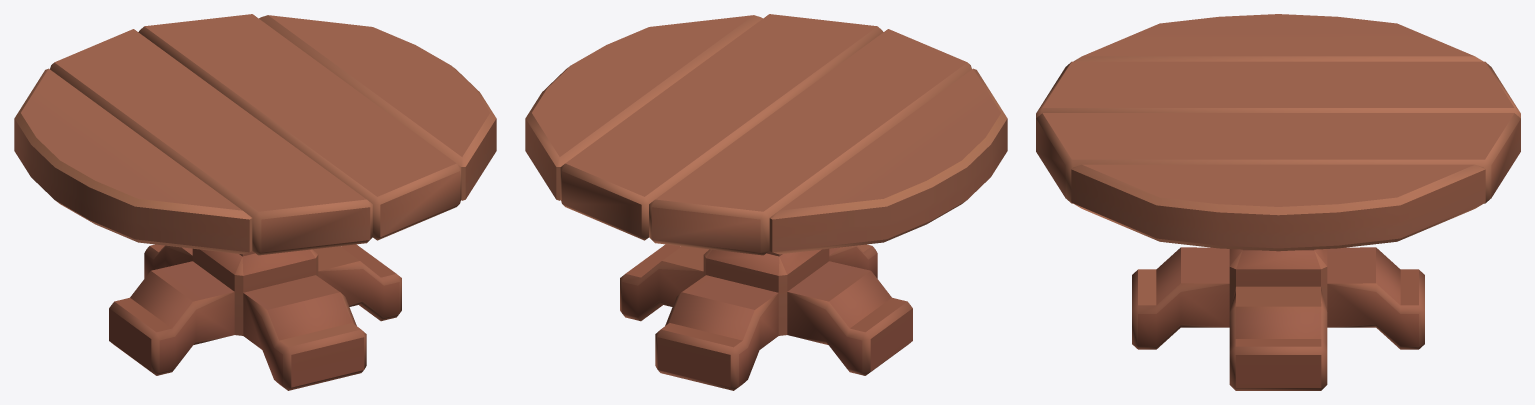
The model's file is table_round_medium.glb.
The picture shows the model from 3 angles, left to right: view 1: azimuth 30°, elevation 25°; view 2: azimuth 150°, elevation 25°; view 3: azimuth 270°, elevation 25°; orthographic projection.
Visible parts, largest first — view 1: table_round_medium; view 2: table_round_medium; view 3: table_round_medium.
Part boxes in pixels (x1,y1,x2,y2): table_round_medium: (14, 14, 496, 390); table_round_medium: (525, 14, 1007, 390); table_round_medium: (1036, 14, 1520, 390).
Bounding box in the file's own units: 1.92 × 1 × 1.99.
1 material, 1 textured.
